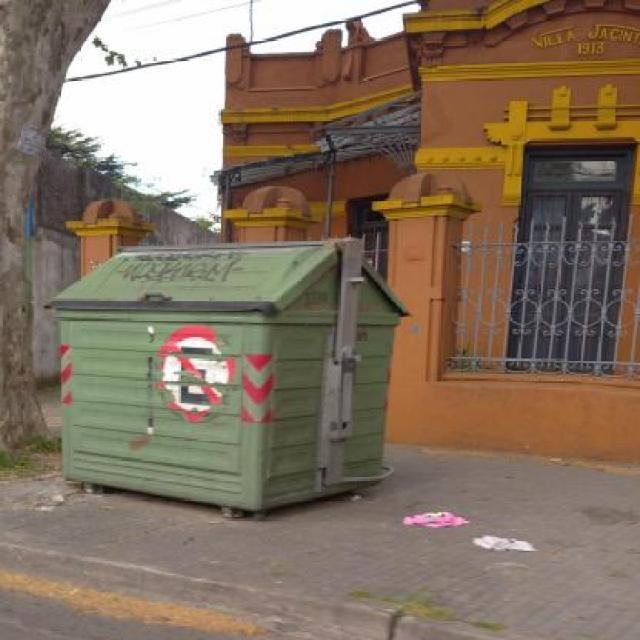garbage: (357, 486, 586, 588)
